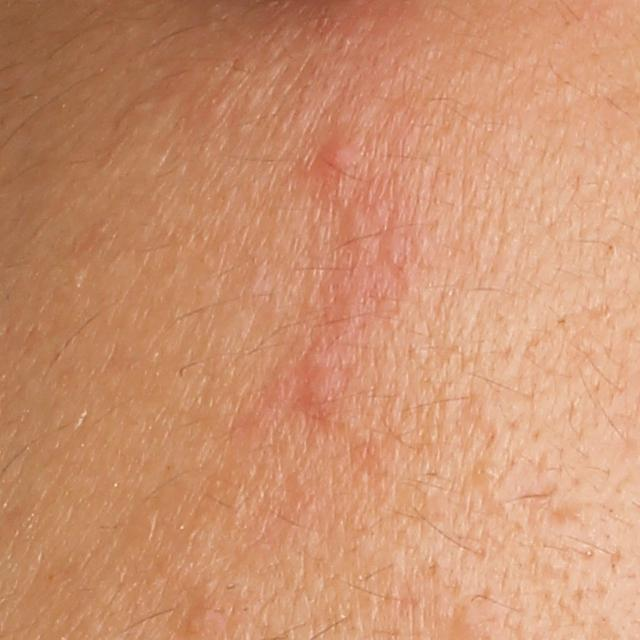comedo: (471, 455, 502, 487)
papule: (317, 134, 355, 172)
